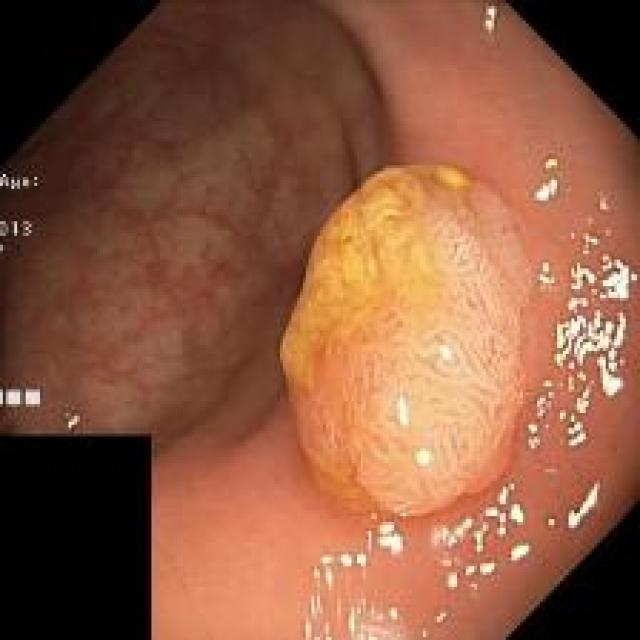Polyps: (281, 164, 531, 517)
